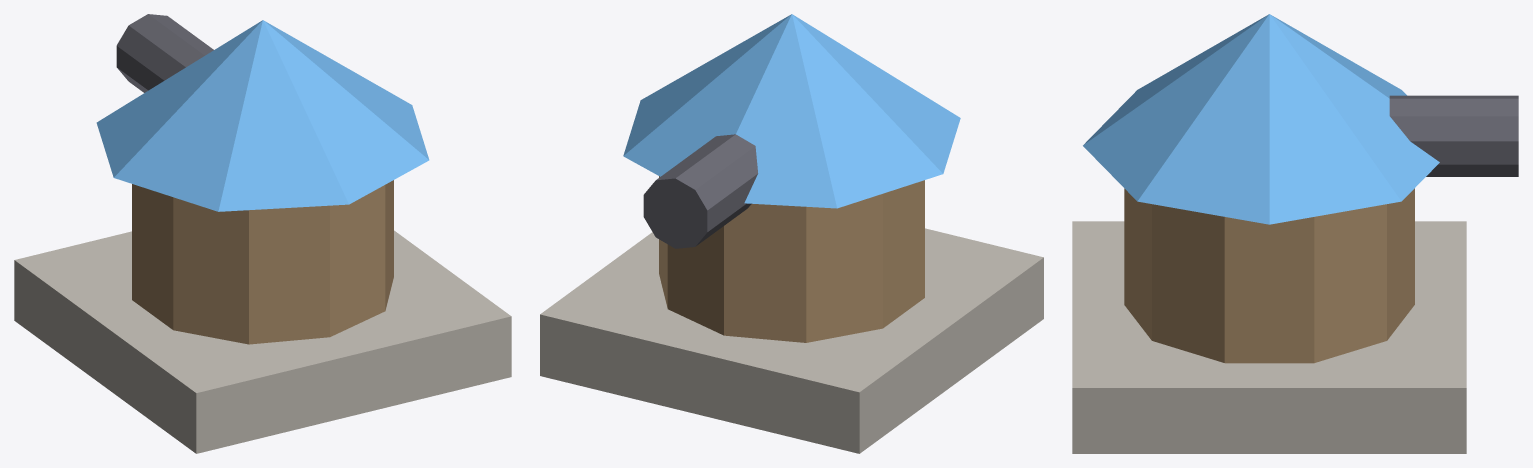
File: building.glb
The picture shows the model from 3 angles, left to right: view 1: azimuth 30°, elevation 25°; view 2: azimuth 150°, elevation 25°; view 3: azimuth 270°, elevation 25°; orthographic projection. The views are drawn at different scales.
Parts seen in each view (by area): view 1: building; view 2: building; view 3: building.
Part boxes in pixels (x1,y1,x2,y2): building: [14, 14, 511, 453]; building: [540, 14, 1043, 453]; building: [1072, 14, 1518, 453].
Bounding box in the file's own units: 1.9 × 1.89 × 2.15.
